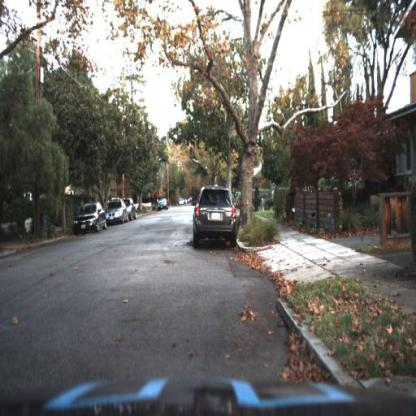car: (188, 183, 244, 250), (71, 200, 107, 242), (106, 197, 127, 228), (125, 197, 136, 222), (157, 198, 169, 213)
